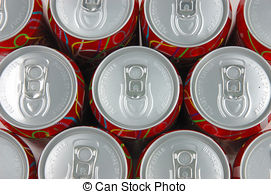can: (88, 43, 183, 142), (183, 45, 271, 142), (1, 45, 88, 140), (139, 1, 234, 65), (48, 1, 137, 62), (134, 127, 233, 180), (36, 126, 133, 180), (1, 1, 46, 56), (230, 127, 271, 181), (235, 1, 271, 62), (1, 127, 37, 180)
